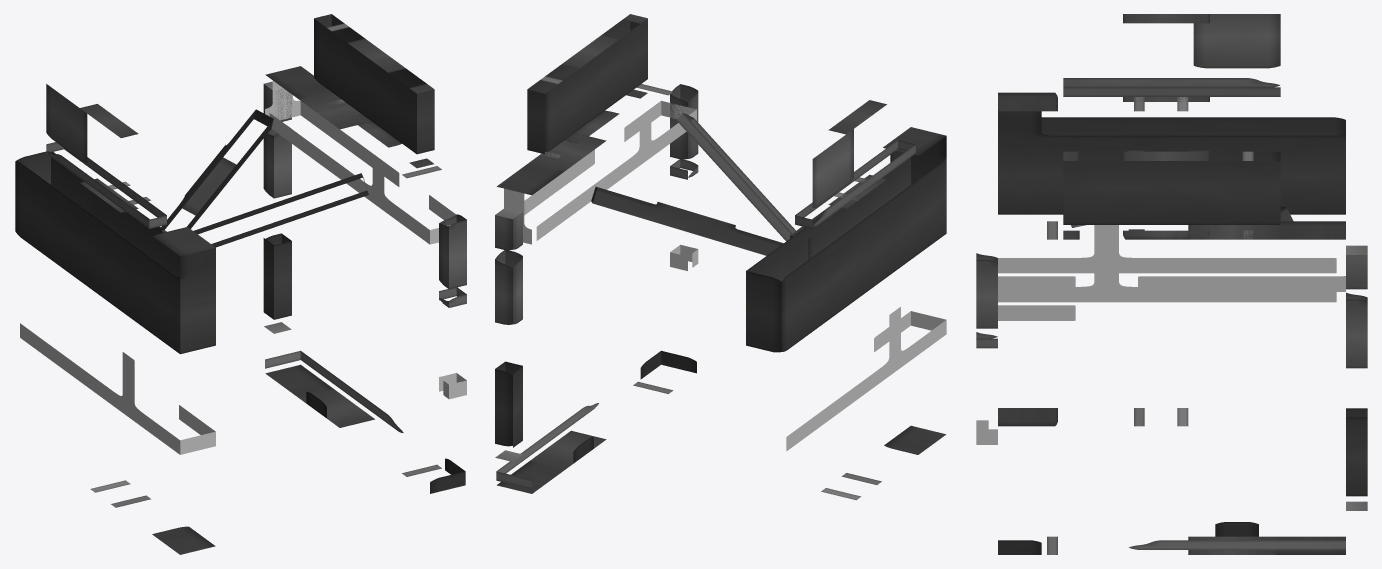
File: ticket_gate.obj
The picture shows the model from 3 angles, left to right: view 1: azimuth 30°, elevation 25°; view 2: azimuth 150°, elevation 25°; view 3: azimuth 270°, elevation 25°; orthographic projection. The views are drawn at different scales.
Visible parts, largest first — view 1: lj, li, lq, lp, qq, lo, lm, ll; view 2: lj, li, lq, qq, lp, lm, ll, lo, lk; view 3: lj, li, lq, lp, qq, lo.
Part boxes in pixels (left/top/right/bottom): lj: left=15, top=151, right=215, bottom=554; li: left=265, top=66, right=465, bottom=493; lq: left=314, top=14, right=434, bottom=168; lp: left=46, top=84, right=166, bottom=228; qq: left=263, top=81, right=291, bottom=333; lo: left=439, top=214, right=466, bottom=399; lm: left=161, top=109, right=273, bottom=229; ll: left=193, top=173, right=368, bottom=247; lj: left=746, top=127, right=946, bottom=500; li: left=496, top=84, right=696, bottom=493; lq: left=527, top=14, right=647, bottom=158; qq: left=495, top=207, right=522, bottom=461; lp: left=795, top=100, right=915, bottom=228; lm: left=591, top=186, right=783, bottom=255; ll: left=676, top=113, right=795, bottom=241; lo: left=670, top=84, right=698, bottom=270; lk: left=790, top=205, right=838, bottom=259; lj: left=998, top=92, right=1345, bottom=426; li: left=998, top=221, right=1345, bottom=554; lq: left=1063, top=151, right=1280, bottom=239; lp: left=1063, top=14, right=1280, bottom=101; qq: left=1346, top=245, right=1367, bottom=510; lo: left=976, top=253, right=997, bottom=444.
Size of the model in its own units: 1 by 1.25 by 1.12.
Materials: 1 (1 with a texture image).
